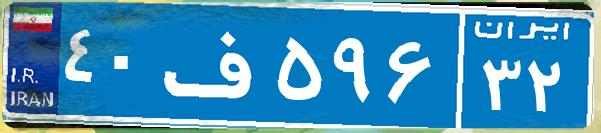0: (110, 28, 158, 105)
2: (525, 38, 570, 115)
3: (475, 38, 525, 113)
4: (57, 26, 110, 107)
5: (273, 28, 330, 110)
6: (385, 28, 445, 110)
9: (330, 28, 385, 110)
ف: (158, 15, 273, 115)
